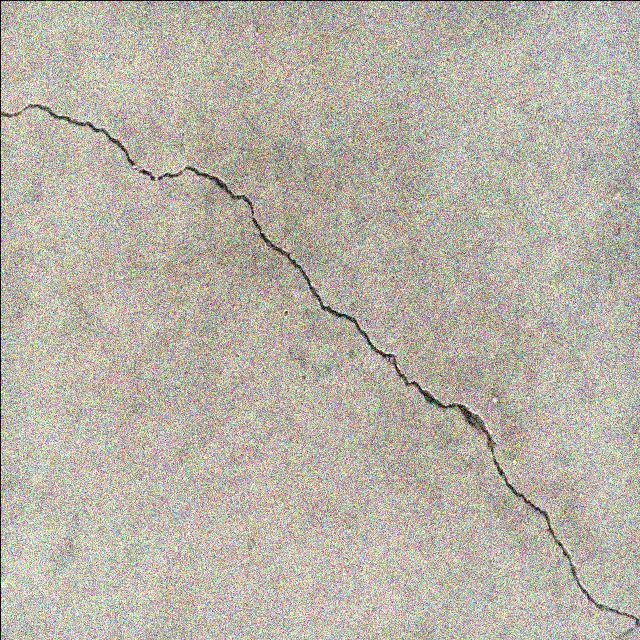SurfaceCrack: (1, 46, 638, 640)
